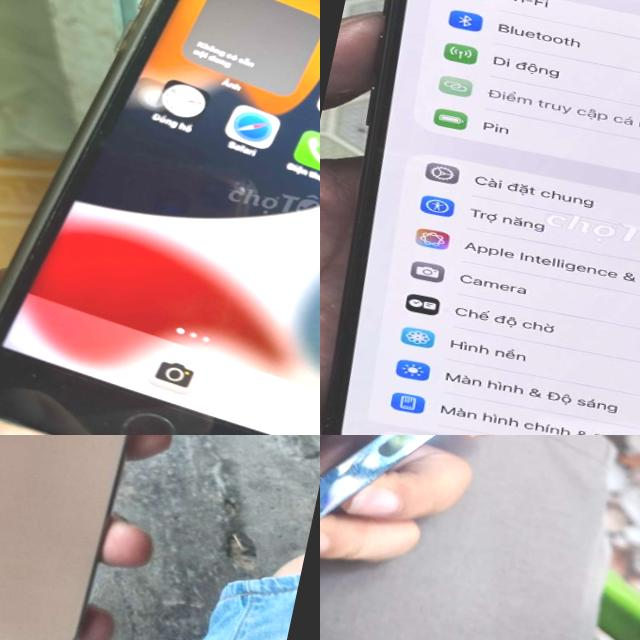gen_11: (0, 435, 211, 640)
gen_12_13: (320, 435, 640, 640)
gen_15: (320, 0, 640, 435)
gen_7_8: (0, 0, 320, 435)
